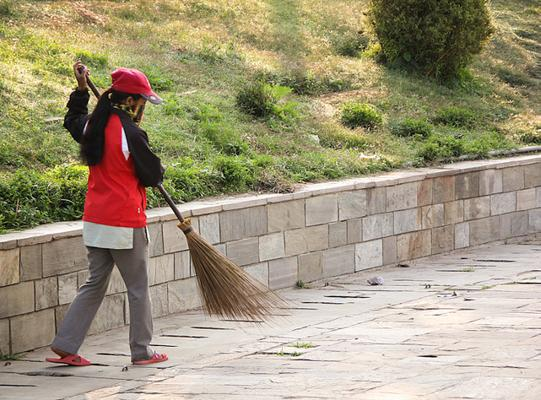person: (51, 59, 165, 367)
